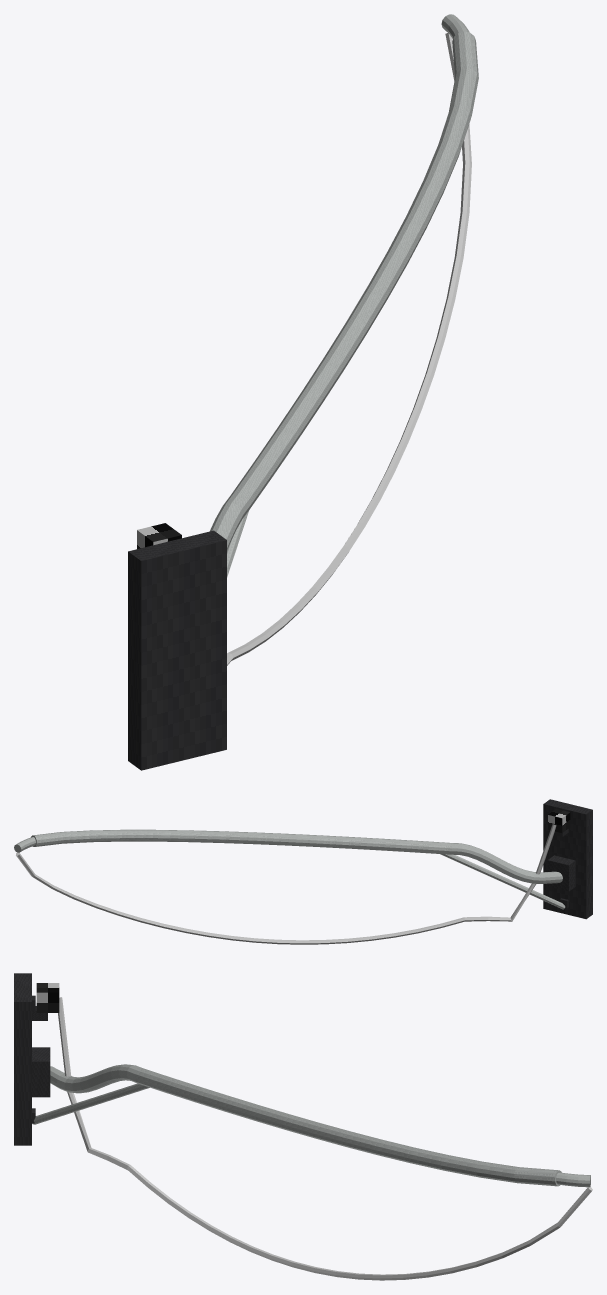
The model's file is arm_4_right_wired.obj.
3 views of the same model, one above another, from view 1: azimuth 30°, elevation 25°; view 2: azimuth 150°, elevation 25°; view 3: azimuth 270°, elevation 25° (orthographic). The views are drawn at different scales.
Visible parts, largest first — view 1: pole_light_mount_4_right_wired; view 2: pole_light_mount_4_right_wired; view 3: pole_light_mount_4_right_wired.
Part boxes in pixels (x1,y1,x2,y2): pole_light_mount_4_right_wired: (128,14,478,770); pole_light_mount_4_right_wired: (14,799,592,944); pole_light_mount_4_right_wired: (14,973,592,1280).
Bounding box in the file's own units: 3.22 × 1.23 × 3.2.
